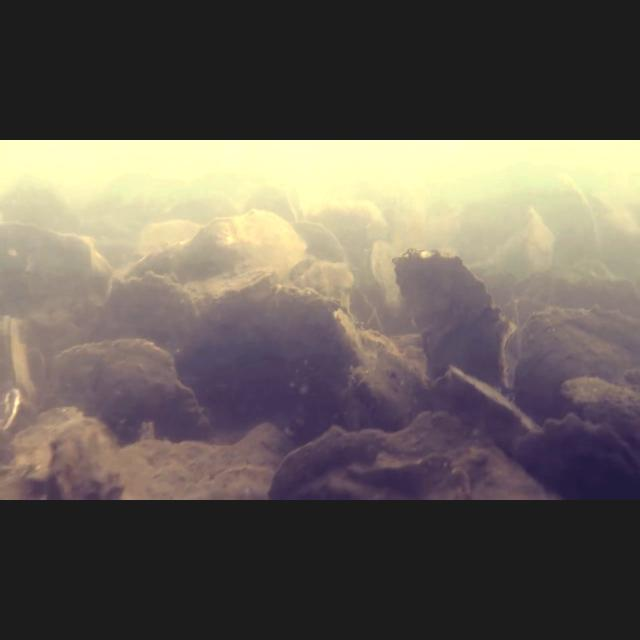Oyster-Closed: (35, 329, 229, 438), (389, 241, 519, 393), (502, 296, 640, 417), (124, 205, 308, 284), (504, 408, 638, 493), (241, 279, 369, 365), (98, 268, 206, 340), (440, 364, 532, 427), (207, 264, 286, 320), (564, 377, 639, 435), (364, 240, 404, 323), (2, 308, 34, 407), (293, 220, 350, 258)
Oyster-Open: (245, 181, 306, 220)
